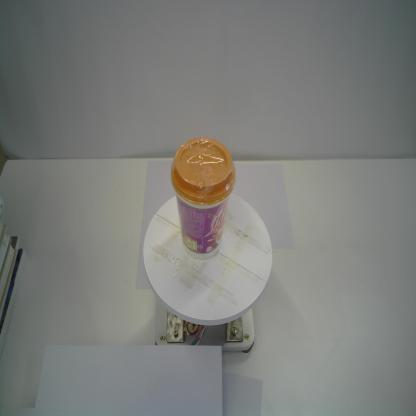Instant Drink: (168, 136, 238, 262)
